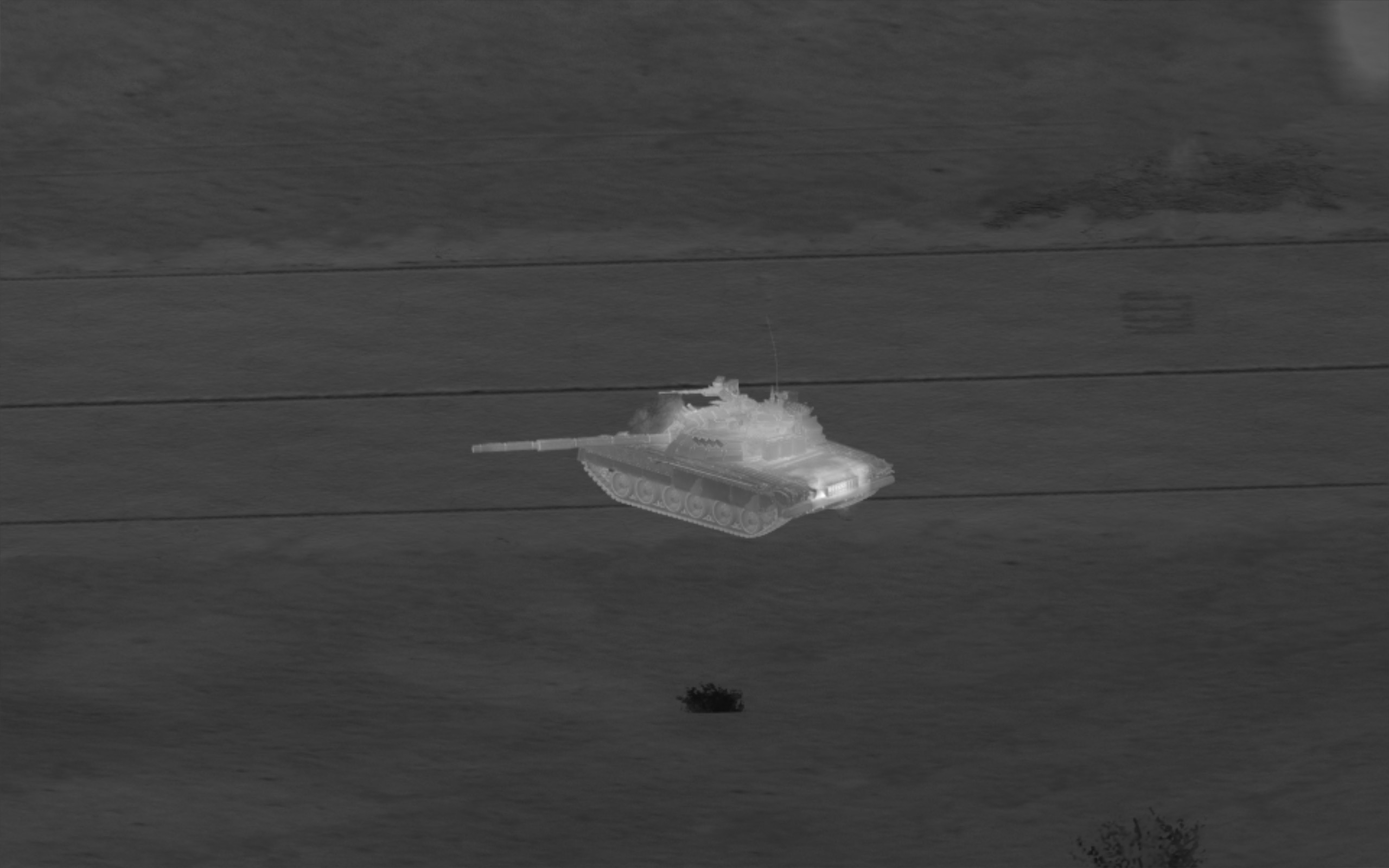t-80u: (469, 379, 897, 539)
